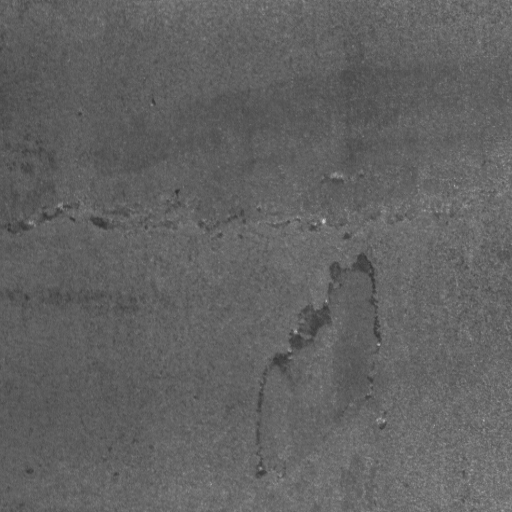aokeng: (255, 250, 383, 477)
